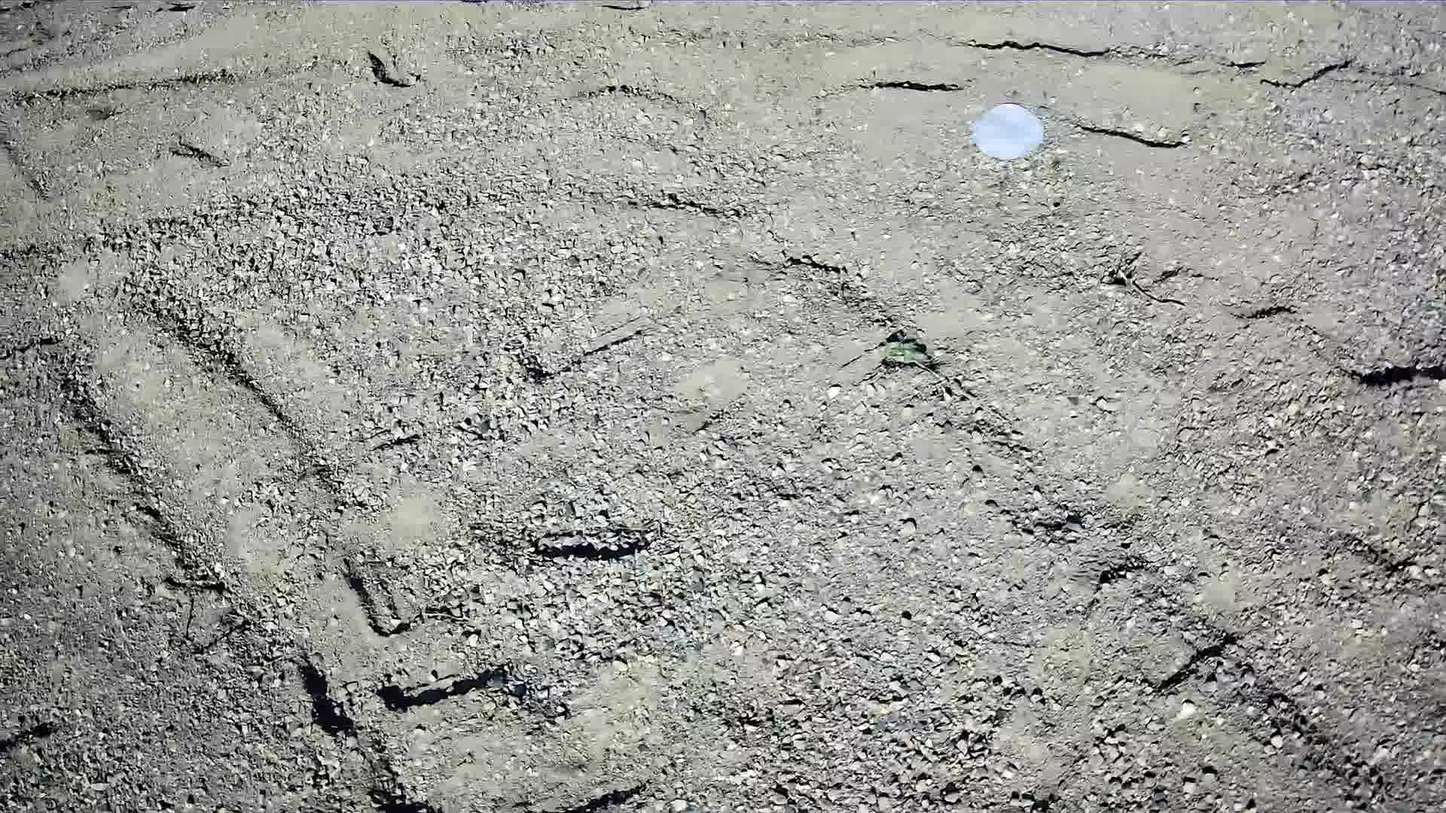Target: (971, 102, 1045, 160)
